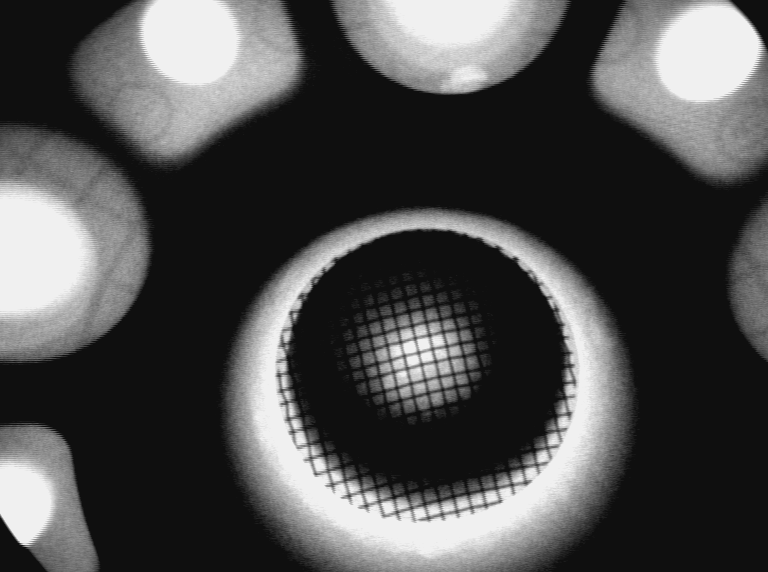defect: (444, 63, 489, 97)
